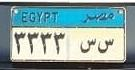3: (26, 30, 39, 56), (53, 31, 67, 55), (39, 31, 53, 55), (14, 30, 26, 55)
seen: (78, 34, 96, 56), (98, 37, 116, 55)
